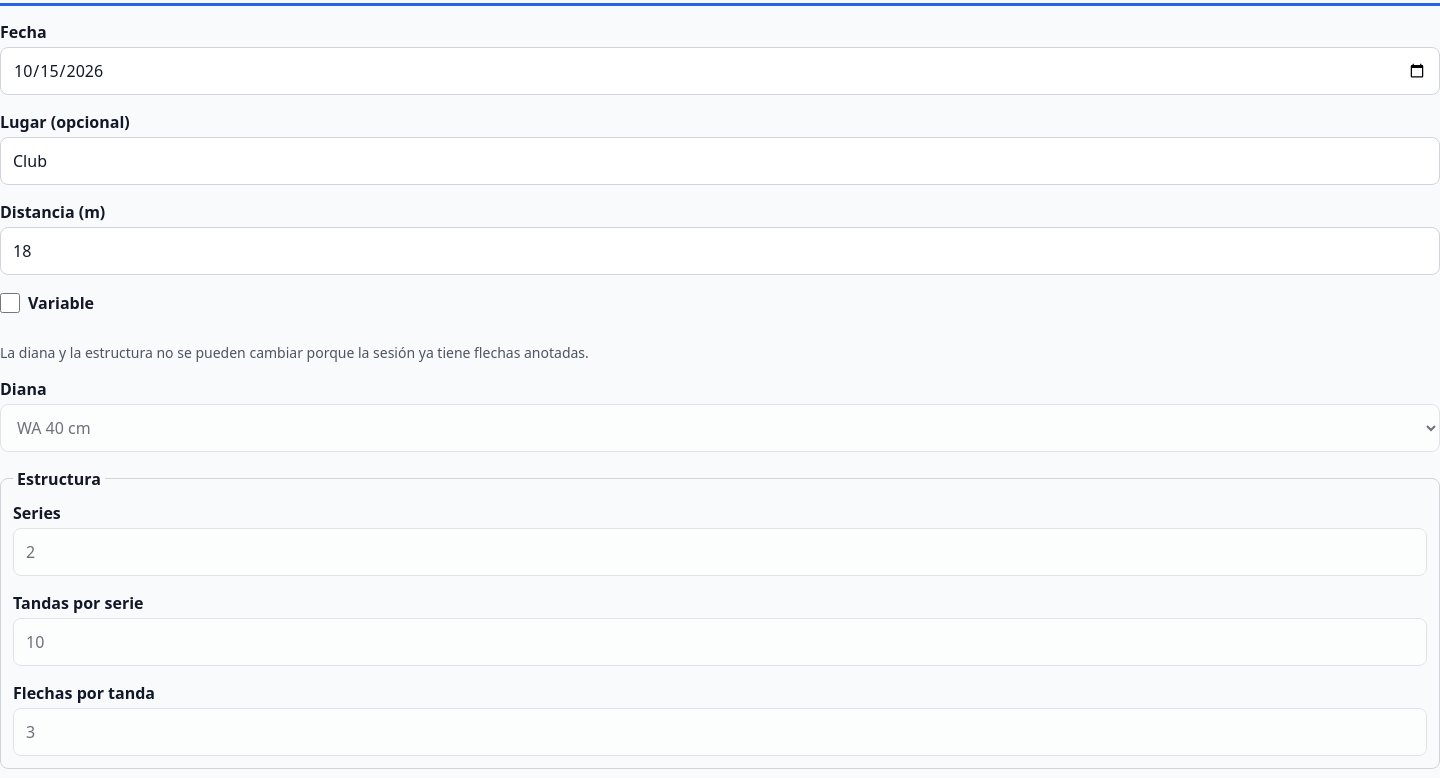
Test case: EditSessionView errors › an invalid date errors even with the structure locked
The width and height of the screenshot is (1440, 778).
Clear the date field with id "es-date" at (720, 71), box x1=0 y1=47 x2=1439 y2=95
(page scrolled)
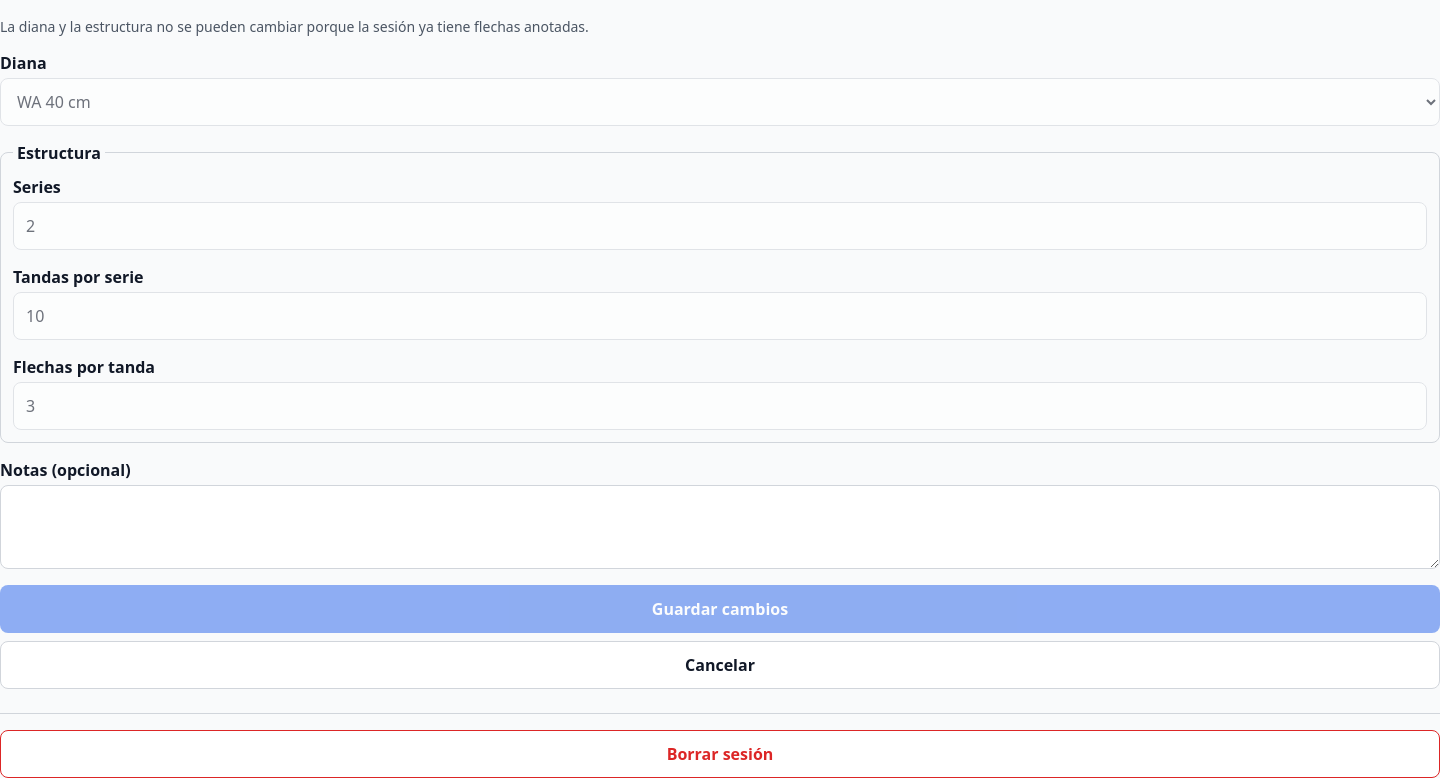
Check: the submit button is disabled, box x1=0 y1=585 x2=1439 y2=633
